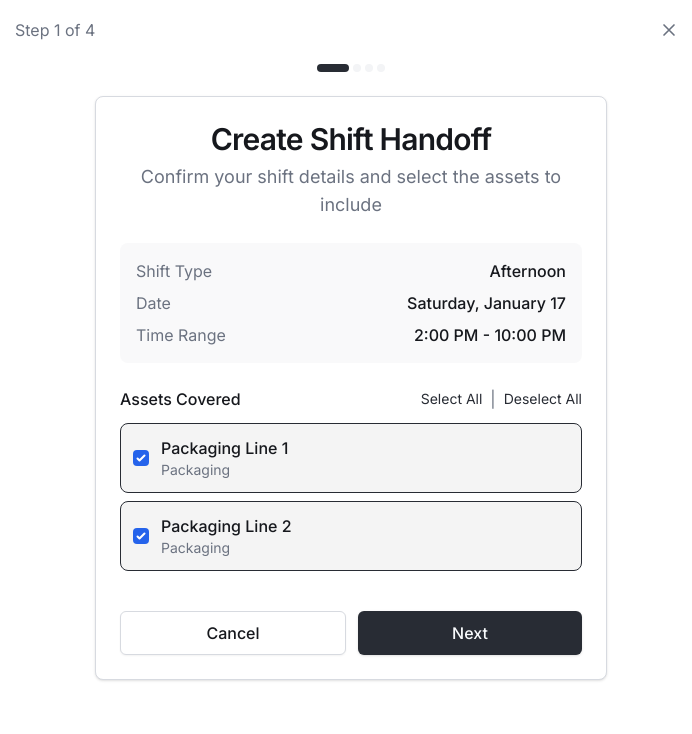
HandoffCreator › prevents navigation when no assets selected
This screenshot has width=692, height=734.
Expected: the heading "Create Shift Handoff" is shown, [211,121,491,157]
# Deselect all
Click the button "Deselect All".
click(543, 399)  # box [504,387,582,411]
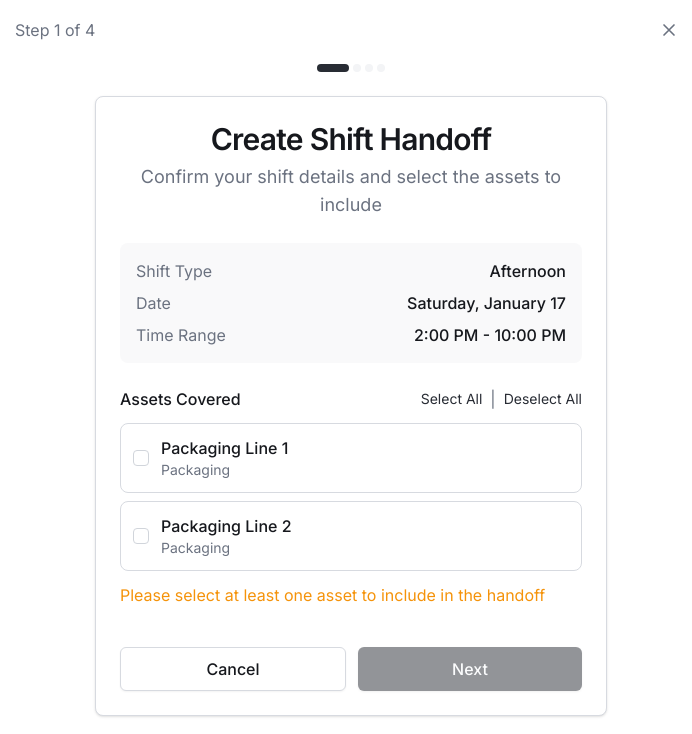
Result: the button "Next" is disabled at [358,647,582,691]
